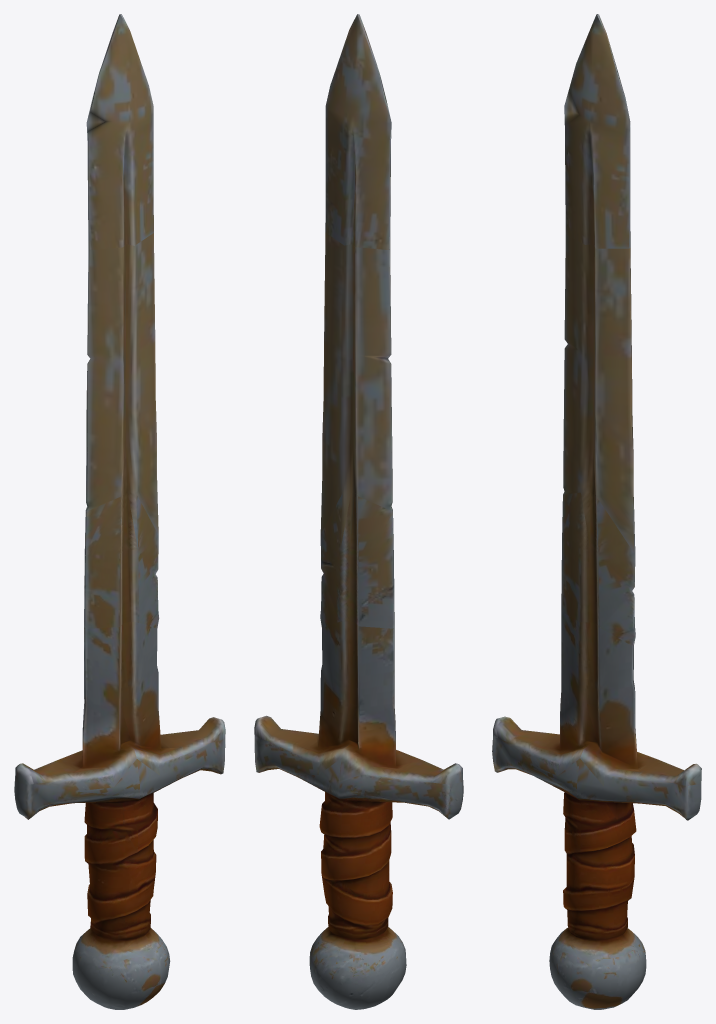
File: sword_rare_a_molten.glb
3 views of the same model, side by side, from view 1: azimuth 30°, elevation 25°; view 2: azimuth 150°, elevation 25°; view 3: azimuth 330°, elevation 25° (orthographic).
Visible parts, largest first — view 1: tripo_node_97e2f97e-50ac-4141-868f-1e15ad3be5ce; view 2: tripo_node_97e2f97e-50ac-4141-868f-1e15ad3be5ce; view 3: tripo_node_97e2f97e-50ac-4141-868f-1e15ad3be5ce.
Boxes of the visible parts, x1=… form: tripo_node_97e2f97e-50ac-4141-868f-1e15ad3be5ce: x1=14, y1=14, x2=225, y2=1009; tripo_node_97e2f97e-50ac-4141-868f-1e15ad3be5ce: x1=254, y1=14, x2=463, y2=1009; tripo_node_97e2f97e-50ac-4141-868f-1e15ad3be5ce: x1=492, y1=14, x2=701, y2=1009.
Bounding box in the file's own units: 0.4407 × 2 × 0.1807.
Materials: 1 (1 with a texture image).
